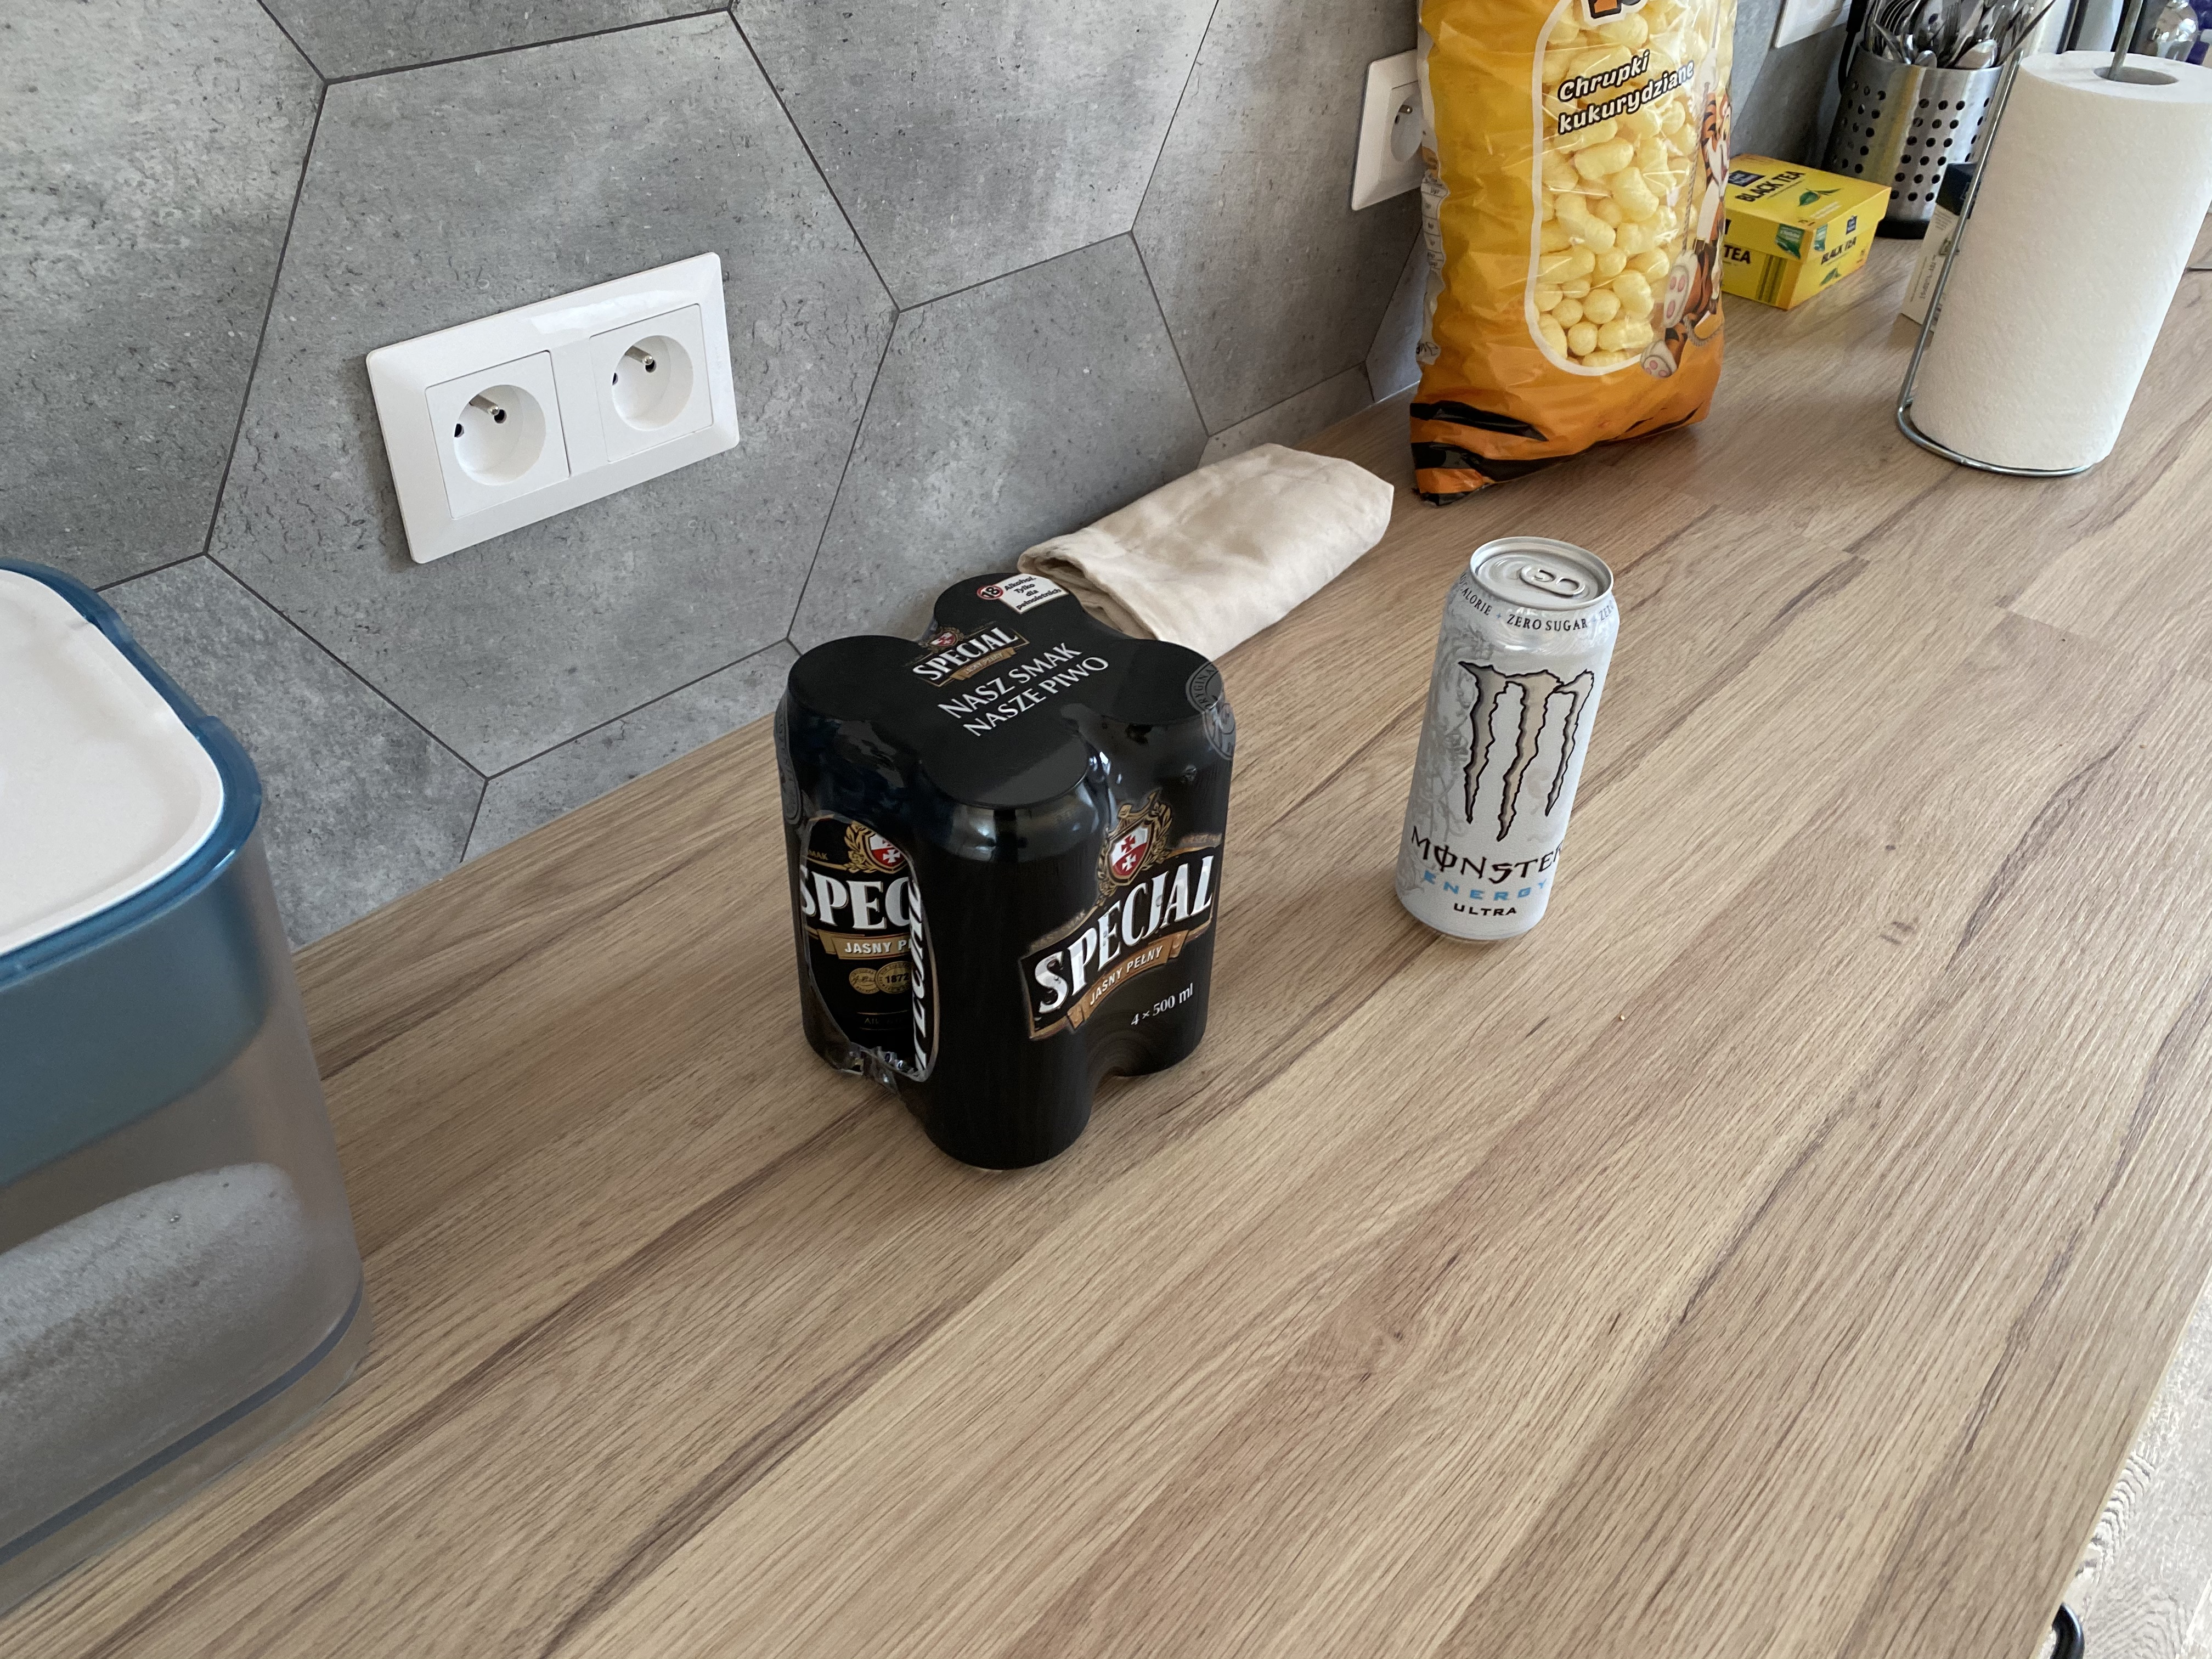specjal: (777, 570, 1247, 1178)
